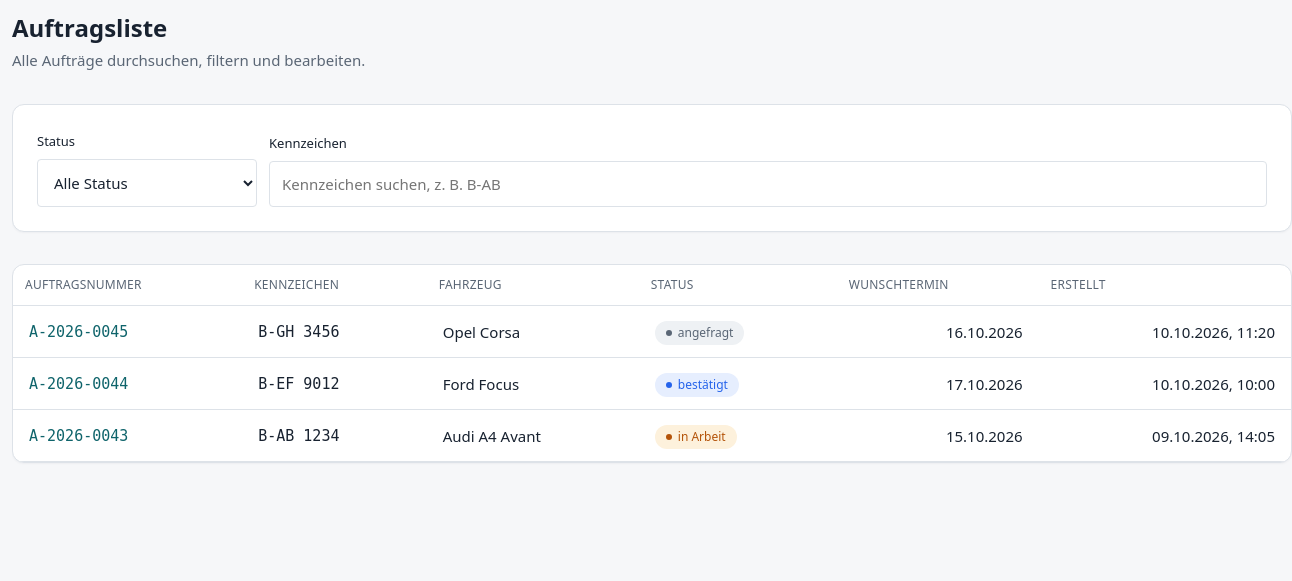
Test: workshop order list › shows the empty state with a reset action when filters exclude every order
Expected: the link "A-2026-0045" is shown, [29, 322, 128, 340]
Select "fertig" in the dropdown labelled "Status" at {"x": 147, "y": 183}, box [37, 159, 257, 207]
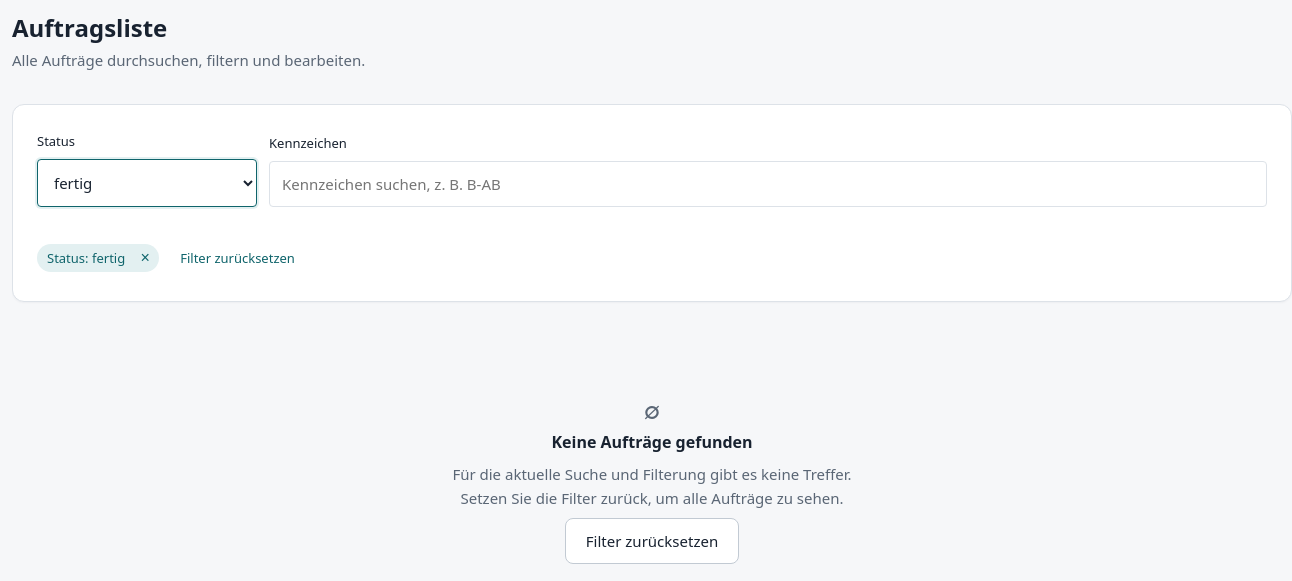
Click the button "Filter zurücksetzen" below "Keine Aufträge gefunden" at {"x": 652, "y": 541}, box [565, 518, 739, 564]
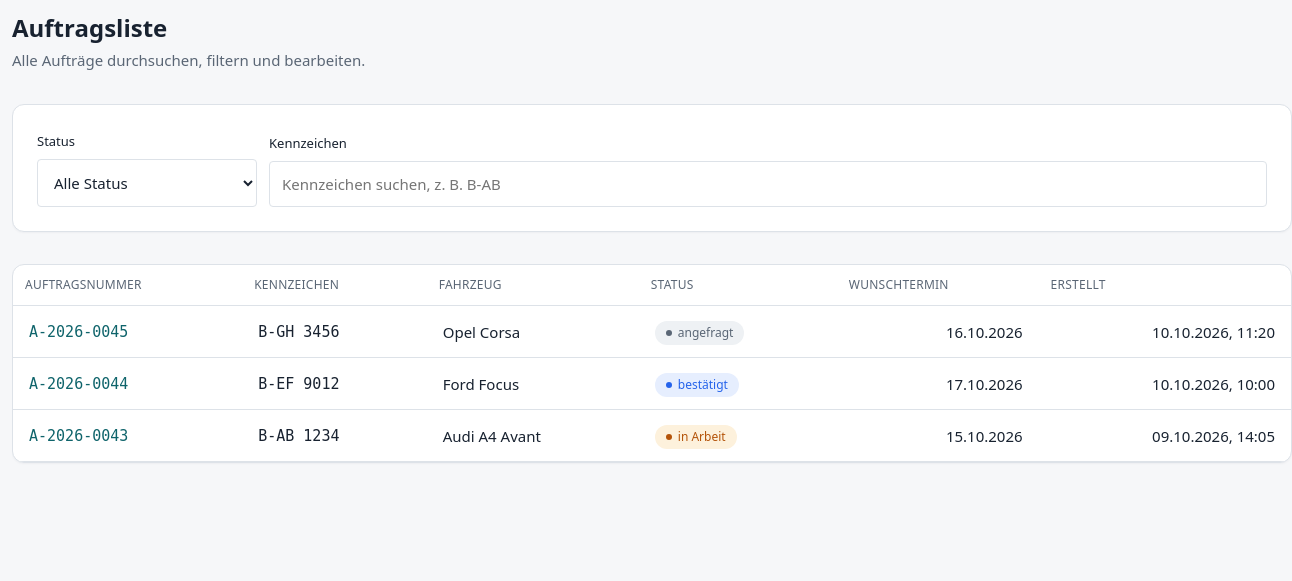
Expected: the link "A-2026-0045" is shown, [29, 322, 128, 340]
